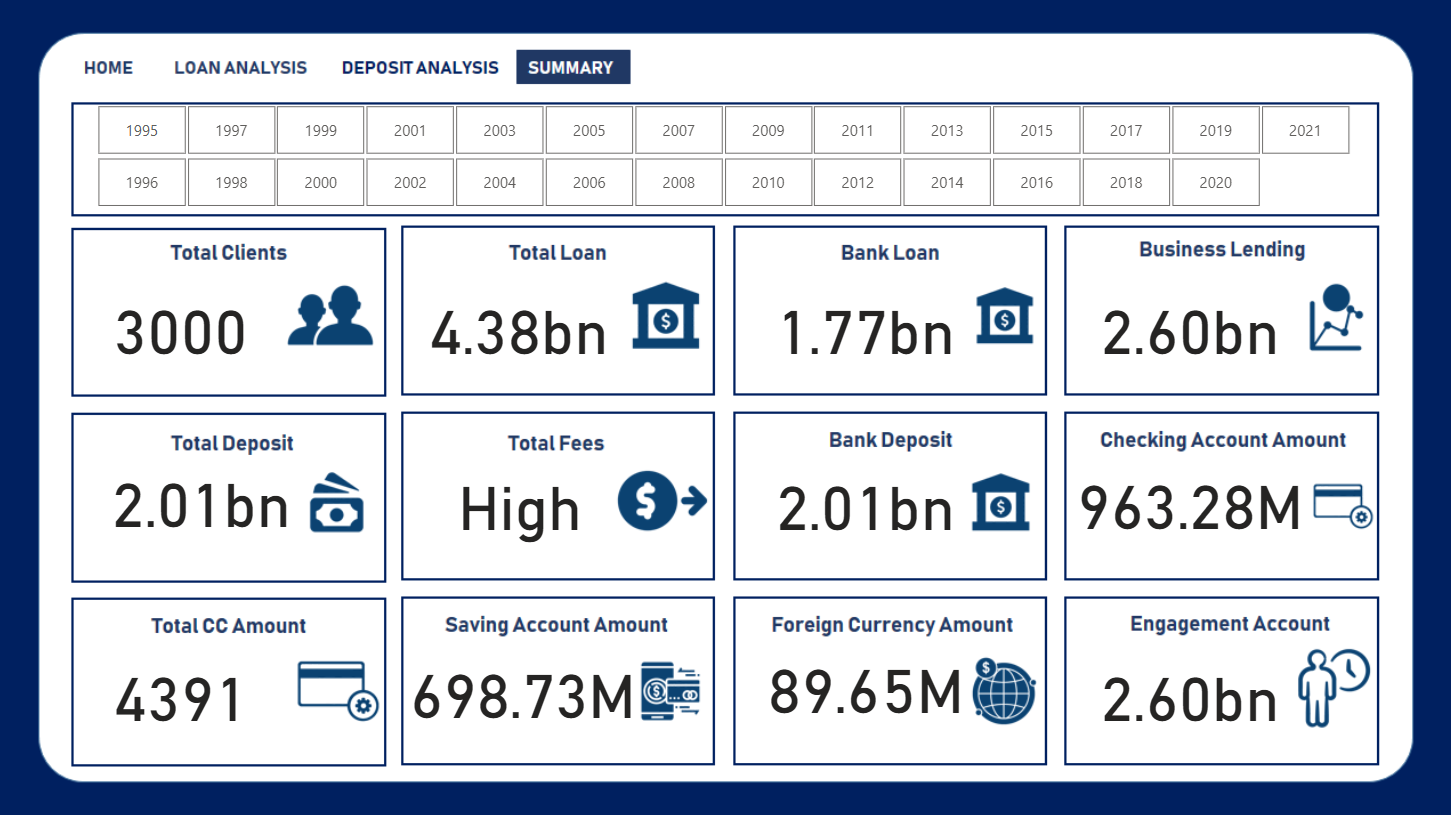

The page's visual inventory and layout, read from the dashboard file:
{"tool":"powerbi","page":{"name":"Summary","canvas":[1280,720],"ordinal":3},"visuals":[{"type":"slicer","fields":{"Values":["Banking_Clients.Joined Bank.Variation.Date Hierarchy.Year"]},"box":[66.1,87,1145.9,101.5],"z":0},{"type":"card","fields":{"Values":["Banking Relationship.Total Loan"]},"box":[372.5,242.1,176.9,85.1],"z":1000},{"type":"card","fields":{"Values":["Sum(Banking_Clients.Bank Loans)"]},"box":[675.8,242.1,176.9,85.1],"z":2000},{"type":"card","fields":{"Values":["Sum(Banking_Clients.Business Lending)"]},"box":[960.5,242.1,176.9,85.1],"z":3000},{"type":"card","fields":{"Values":["Sum(Banking_Clients.Checking Accounts)"]},"box":[932.6,393.8,232.8,87.8],"z":4000},{"type":"card","fields":{"Values":["Sum(Banking_Clients.Bank Deposits)"]},"box":[675.8,396.4,176.9,85.1],"z":5000},{"type":"card","fields":{"Values":["Min(Banking_Clients.Fee Structure)"]},"box":[373.8,396.4,176.9,85.1],"z":6000},{"type":"card","fields":{"Values":["Sum(Banking_Clients.Bank Deposits)"]},"box":[94.5,393.8,176.9,85.1],"z":7000},{"type":"card","fields":{"Values":["Sum(Banking_Clients.Amount of Credit Cards)"]},"box":[75.8,564.1,176.9,85.1],"z":8000},{"type":"card","fields":{"Values":["CountNonNull(Clients - Banking.Client ID)"]},"box":[75.8,242.1,176.9,85.1],"z":9000},{"type":"card","fields":{"Values":["Sum(Banking_Clients.Saving Accounts)"]},"box":[351.2,558.7,224.8,90.5],"z":10000},{"type":"card","fields":{"Values":["Sum(Banking_Clients.Foreign Currency Account)"]},"box":[658.5,564.1,211.5,70.5],"z":11000},{"type":"card","fields":{"Values":["Sum(Banking_Clients.Business Lending)"]},"box":[960.5,564.1,176.9,85.1],"z":12000}]}

Visuals, with their boxes in screenshot pixels (x1, y1, x2, y2), scaled from the page's 1280x720 canvas onto the 1451x815 screenshot:
slicer - Banking_Clients.Joined Bank.Variation.Date Hierarchy.Year: detection(75, 98, 1374, 213)
card - Banking Relationship.Total Loan: detection(422, 274, 623, 370)
card - Sum(Banking_Clients.Bank Loans): detection(766, 274, 967, 370)
card - Sum(Banking_Clients.Business Lending): detection(1089, 274, 1289, 370)
card - Sum(Banking_Clients.Checking Accounts): detection(1057, 446, 1321, 545)
card - Sum(Banking_Clients.Bank Deposits): detection(766, 449, 967, 545)
card - Min(Banking_Clients.Fee Structure): detection(424, 449, 624, 545)
card - Sum(Banking_Clients.Bank Deposits): detection(107, 446, 308, 542)
card - Sum(Banking_Clients.Amount of Credit Cards): detection(86, 639, 286, 735)
card - CountNonNull(Clients - Banking.Client ID): detection(86, 274, 286, 370)
card - Sum(Banking_Clients.Saving Accounts): detection(398, 632, 653, 735)
card - Sum(Banking_Clients.Foreign Currency Account): detection(746, 639, 986, 718)
card - Sum(Banking_Clients.Business Lending): detection(1089, 639, 1289, 735)
